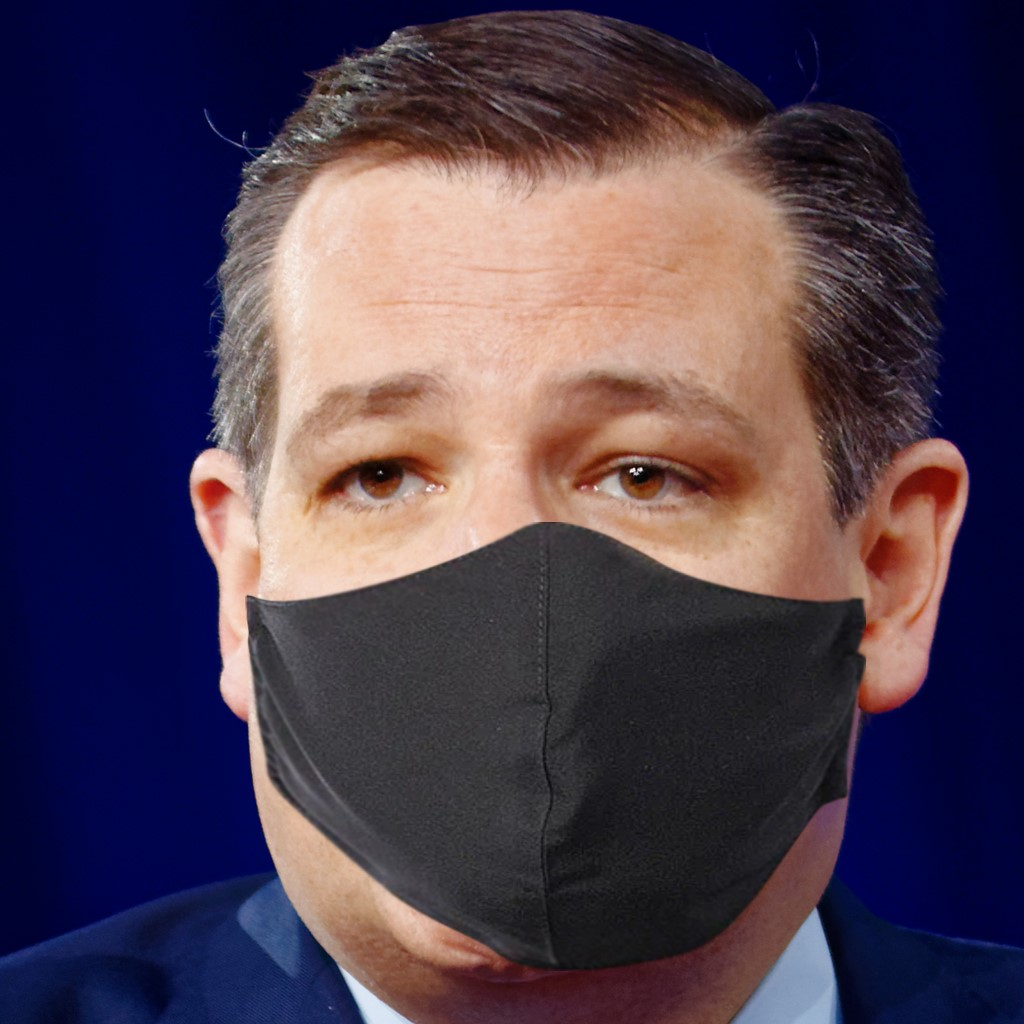con_mascara: (234, 123, 862, 977)
